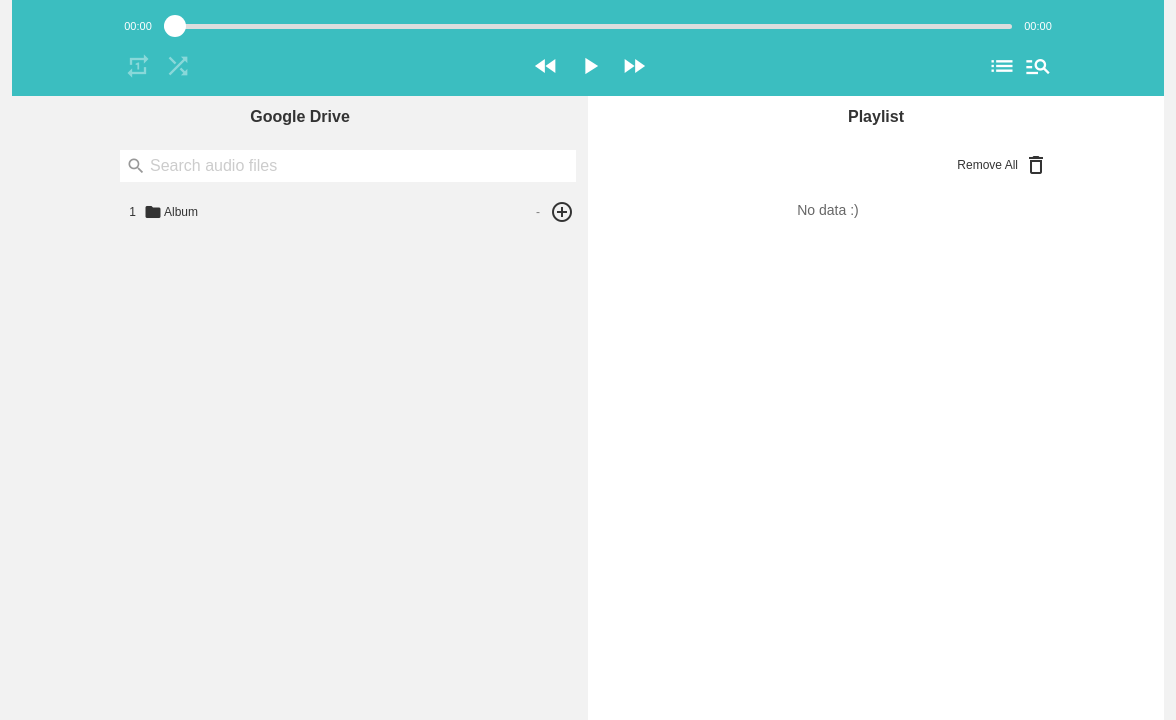
Test: LibraryPage › フォルダの追加ボタンで、中身の曲がプレイリストに入る
Click the button with class "cell-ctrl": (568, 212) [548,198,588,226]
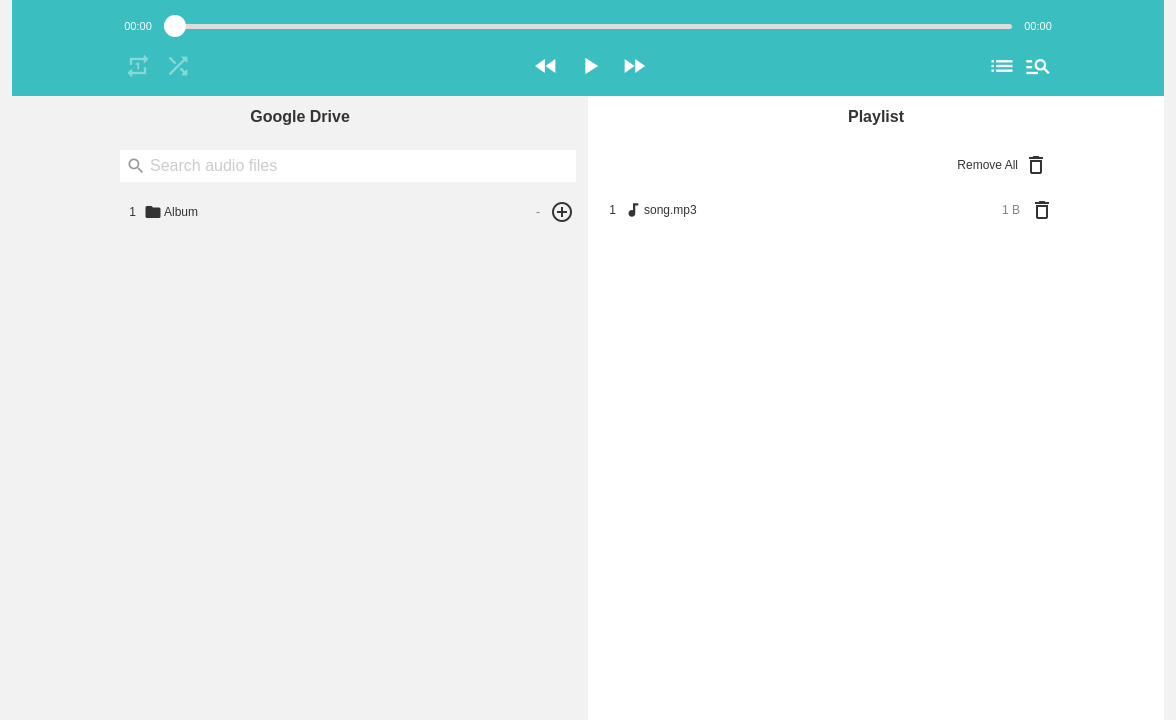
Check: the text with class "name" reads "song.mp3", box [644,203,697,217]
